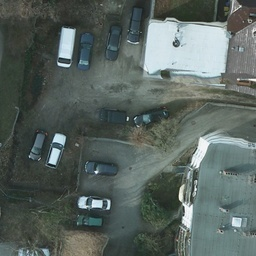car: (75, 31, 94, 70), (103, 22, 122, 61), (126, 5, 145, 44), (56, 28, 75, 66), (83, 159, 118, 177), (73, 211, 104, 230), (134, 107, 166, 125), (47, 136, 65, 166), (77, 193, 110, 209), (27, 130, 45, 159), (97, 107, 127, 124)
